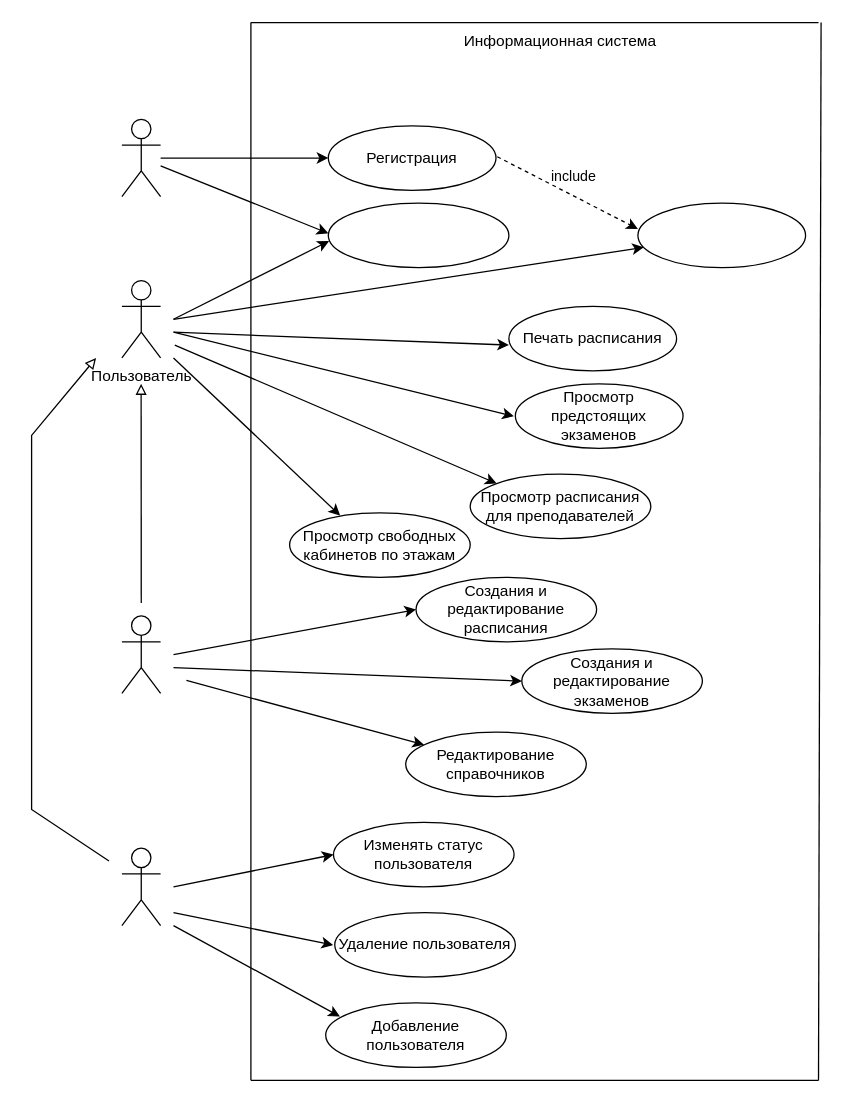
Some shapes in this 845 by 1104 pixel diagram are drawn without their labels. Each missing label, with the centre of its shape:
"Администратор" goes at pixel 141 886.
"Гость" goes at pixel 141 157.
"Просмотр расписания для студентов" goes at pixel 418 235.
"Редактирование профиля" goes at pixel 721 235.
"Составитель расписания" goes at pixel 141 654.
